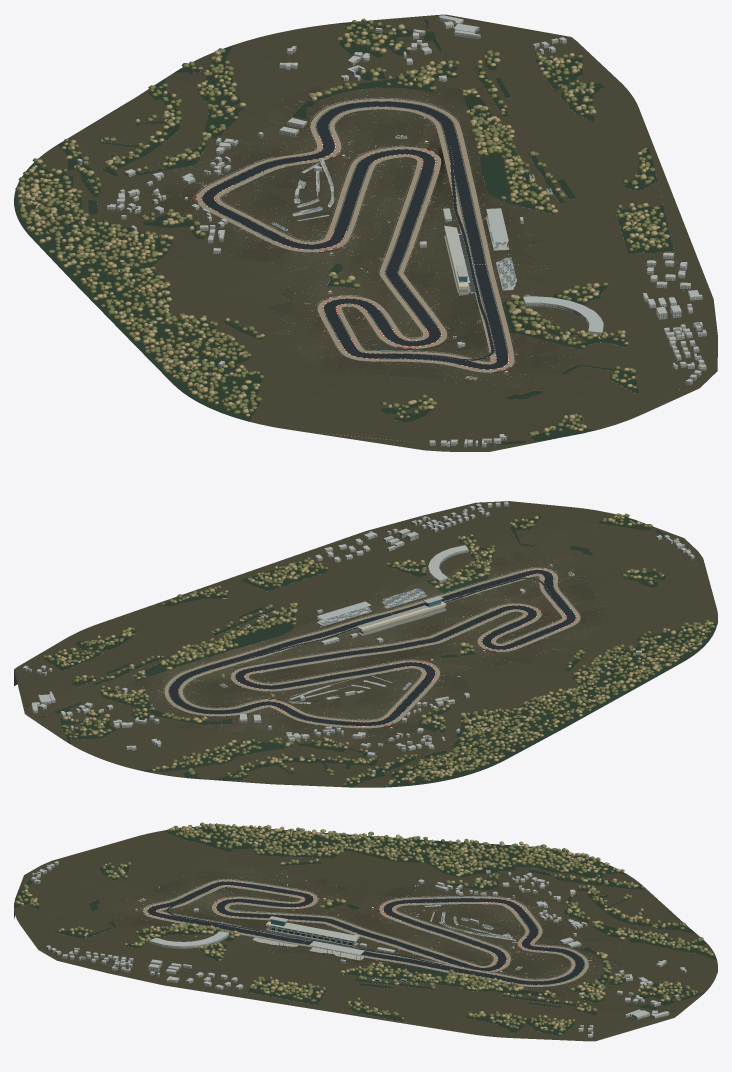
The model's file is Estoril.glb.
3 views of the same model, one above another, from view 1: azimuth 30°, elevation 25°; view 2: azimuth 150°, elevation 25°; view 3: azimuth 270°, elevation 25° (orthographic). The views are drawn at different scales.
Parts seen in each view (by area): view 1: terrain/ground, terrain-woodland/forestFloor, scenery/leaves, terrain-ground-finish-1, road/asphalt, terrain-ground-finish-2, scenery/leavesLight, terrain-ground-finish-3, runoff/gravel, terrain-ground-finish-0, terrain-extension/land, terrain-ground-finish-4 (+7 smaller); view 2: terrain/ground, terrain-woodland/forestFloor, scenery/leaves, terrain-ground-finish-1, terrain-ground-finish-2, road/asphalt, terrain-ground-finish-3, scenery/leavesLight, runoff/gravel, terrain-ground-finish-0, terrain-ground-finish-4, terrain-extension/land (+6 smaller); view 3: terrain/ground, terrain-woodland/forestFloor, scenery/leaves, terrain-ground-finish-1, road/asphalt, terrain-ground-finish-2, scenery/leavesLight, runoff/gravel, terrain-ground-finish-3, terrain-ground-finish-0, terrain-extension/land, terrain-ground-finish-4 (+8 smaller).
Boxes of the visible parts, x1,y1,x2,y2 form: terrain/ground: [38, 19, 696, 445]; terrain-woodland/forestFloor: [14, 19, 673, 445]; scenery/leaves: [15, 18, 669, 436]; terrain-ground-finish-1: [140, 85, 571, 384]; road/asphalt: [202, 101, 508, 369]; terrain-ground-finish-2: [156, 85, 554, 386]; scenery/leavesLight: [17, 24, 669, 432]; terrain-ground-finish-3: [175, 80, 550, 387]; runoff/gravel: [196, 99, 514, 371]; terrain-ground-finish-0: [155, 85, 562, 380]; terrain-extension/land: [296, 14, 717, 451]; terrain-ground-finish-4: [172, 81, 554, 387]; terrain/ground: [27, 505, 717, 787]; terrain-woodland/forestFloor: [39, 514, 717, 787]; scenery/leaves: [42, 513, 715, 785]; terrain-ground-finish-1: [135, 547, 610, 746]; terrain-ground-finish-2: [144, 551, 611, 743]; road/asphalt: [169, 570, 575, 725]; terrain-ground-finish-3: [146, 554, 595, 741]; scenery/leavesLight: [47, 513, 713, 783]; runoff/gravel: [164, 568, 580, 727]; terrain-ground-finish-0: [132, 551, 604, 738]; terrain-ground-finish-4: [151, 555, 603, 745]; terrain-extension/land: [14, 501, 715, 735]; terrain/ground: [14, 830, 717, 1038]; terrain-woodland/forestFloor: [14, 826, 716, 1036]; scenery/leaves: [16, 822, 711, 1034]; terrain-ground-finish-1: [112, 867, 621, 995]; road/asphalt: [147, 881, 584, 984]; terrain-ground-finish-2: [110, 868, 620, 997]; scenery/leavesLight: [15, 823, 713, 1031]; runoff/gravel: [143, 879, 588, 986]; terrain-ground-finish-3: [110, 869, 611, 994]; terrain-ground-finish-0: [129, 871, 621, 996]; terrain-extension/land: [16, 839, 695, 1041]; terrain-ground-finish-4: [110, 868, 618, 989].
Bounding box in the file's own units: 1341 × 66.06 × 1788.
